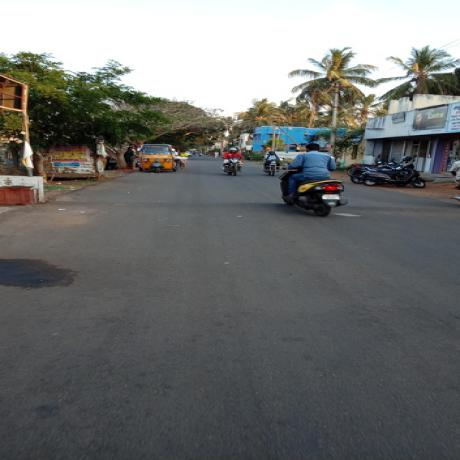Speed Bump: (39, 199, 459, 215)
